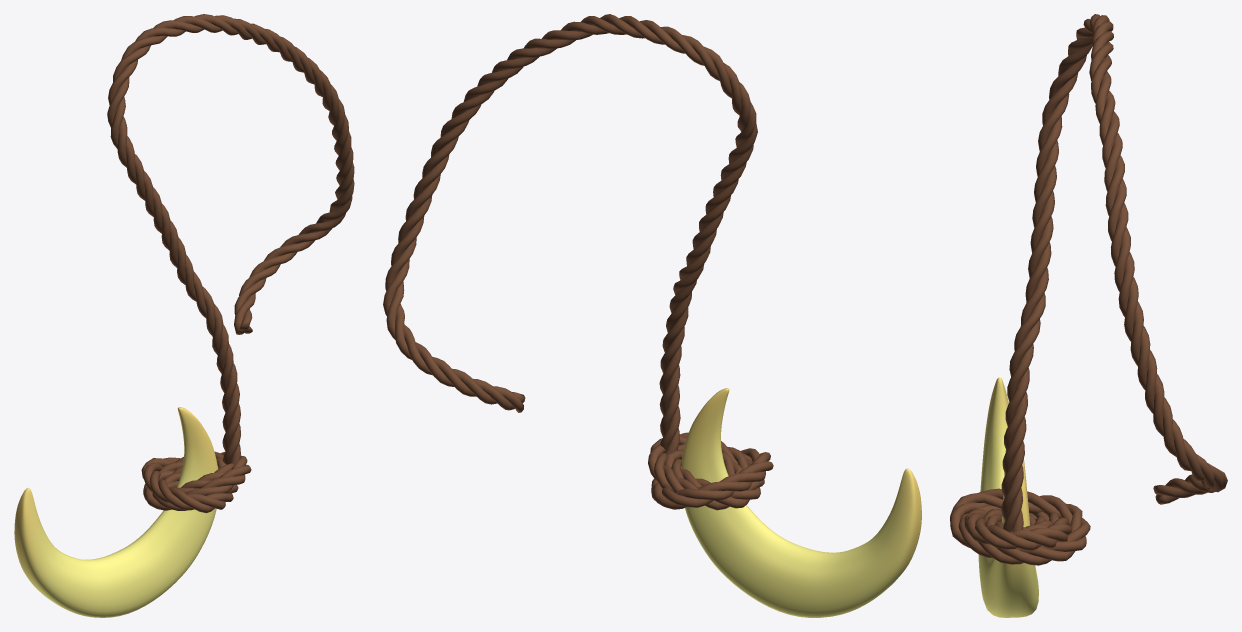
File: hook.fbx
The picture shows the model from 3 angles, left to right: view 1: azimuth 30°, elevation 25°; view 2: azimuth 150°, elevation 25°; view 3: azimuth 270°, elevation 25°; orthographic projection. The views are drawn at different scales.
Visible parts, largest first — view 1: hook1; view 2: hook1; view 3: hook1.
Part boxes in pixels (<box>): hook1: <box>14,14,354,617</box>; hook1: <box>383,14,921,617</box>; hook1: <box>950,14,1227,617</box>.
Size of the model in its own units: 181 by 229 by 90.62.
2 materials, 2 textured.
